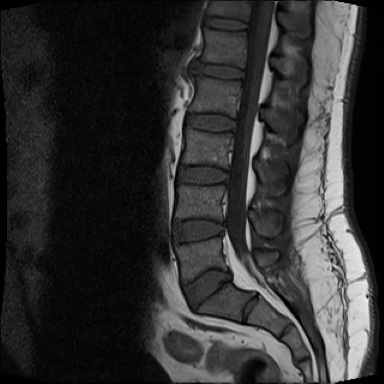Lumbar Disc Bulge (LDB): (172, 254, 243, 316), (164, 207, 240, 249)
Normal IVD: (169, 160, 230, 186), (190, 56, 246, 82), (181, 108, 237, 134), (195, 14, 249, 35)
Spinal Stenosis (SS): (212, 258, 240, 295), (210, 207, 235, 243)
